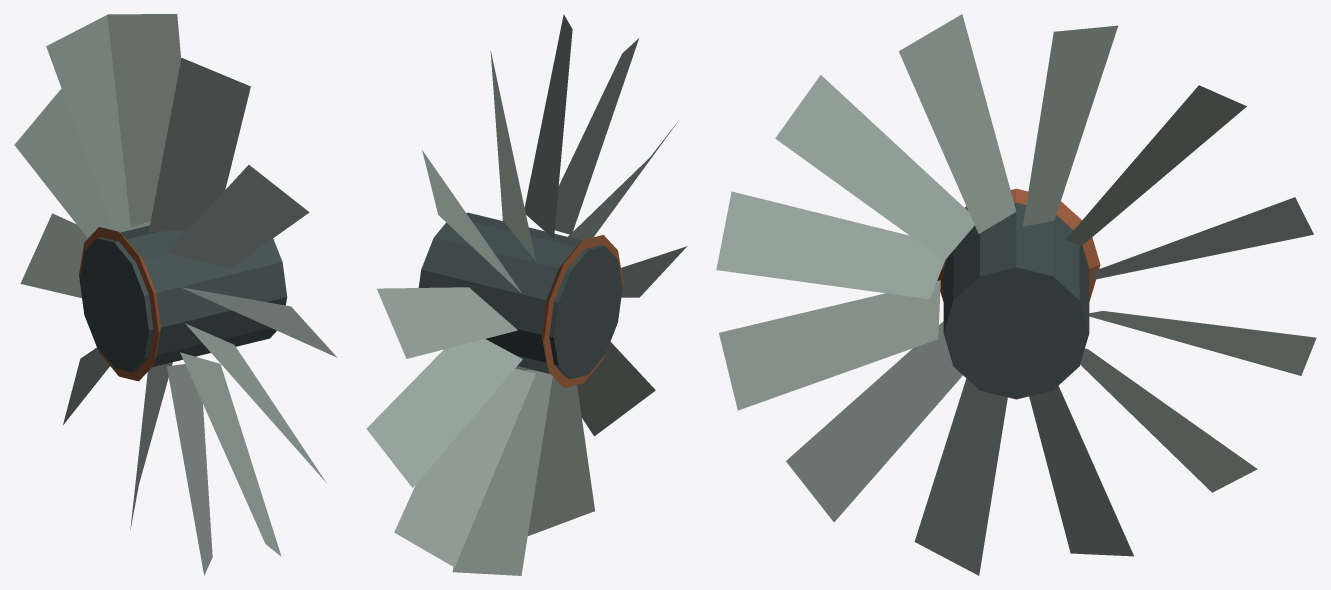
File: Engine_Turbine.glb
3 renders of one model, left to right at view 1: azimuth 30°, elevation 25°; view 2: azimuth 150°, elevation 25°; view 3: azimuth 270°, elevation 25°, orthographic. The views are drawn at different scales.
Parts seen in each view (by area): view 1: Engine_Turbine; view 2: Engine_Turbine; view 3: Engine_Turbine.
Boxes of the visible parts, x1,y1,x2,y2 form: Engine_Turbine: (14, 14, 337, 575); Engine_Turbine: (366, 14, 687, 575); Engine_Turbine: (716, 14, 1316, 575).
Bounding box in the file's own units: 0.6 × 2.14 × 2.14.
